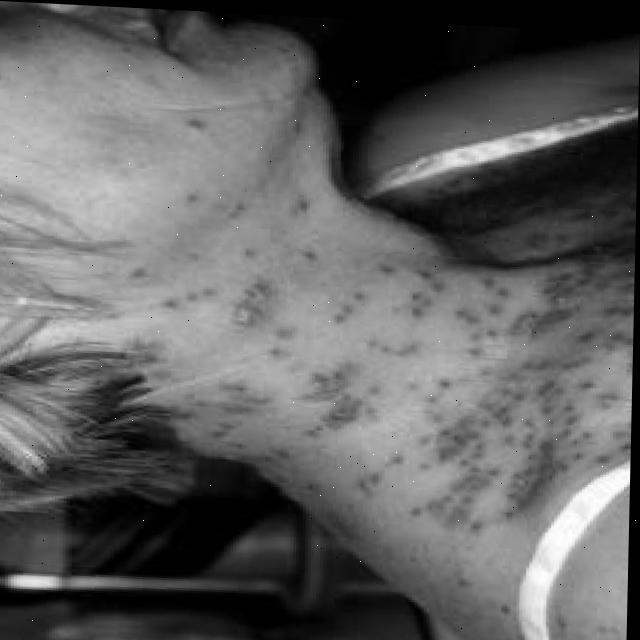Eczema: (158, 249, 633, 535), (458, 122, 630, 246)
